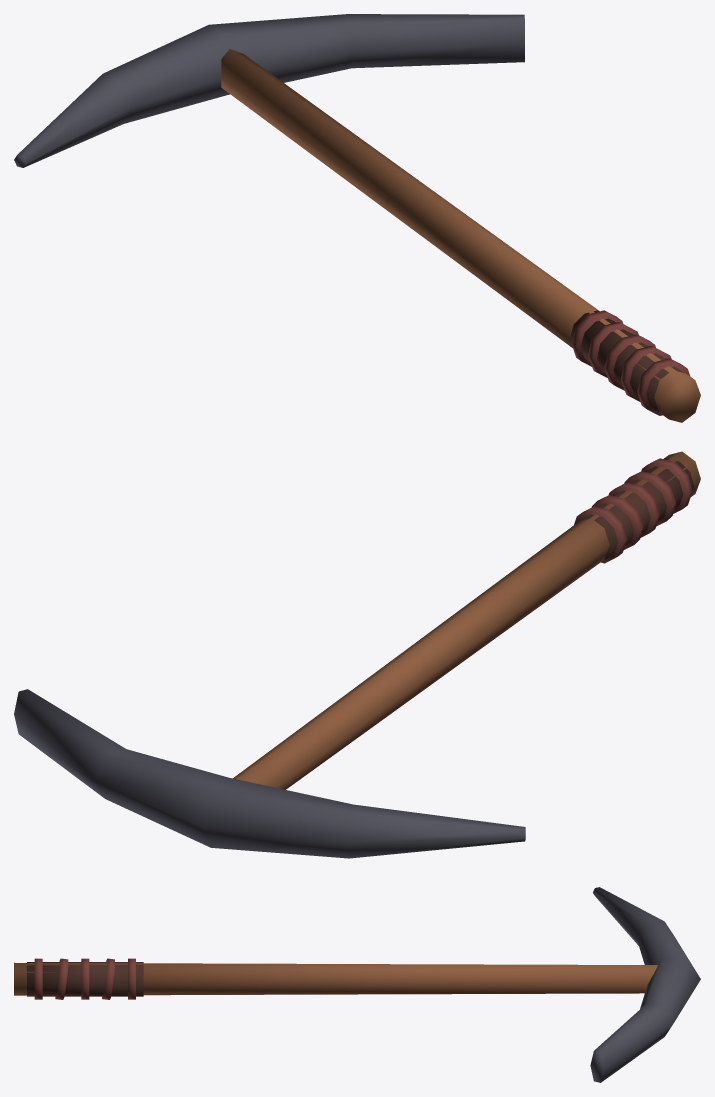
Rendered from weapon_pickaxe.glb.
The picture shows the model from 3 angles, top to bottom: view 1: azimuth 30°, elevation 25°; view 2: azimuth 150°, elevation 25°; view 3: azimuth 270°, elevation 25°; orthographic projection. The views are drawn at different scales.
Visible parts, largest first — view 1: piece; view 2: piece; view 3: piece.
Boxes of the visible parts, x1=… form: piece: x1=14, y1=14, x2=700, y2=422; piece: x1=14, y1=451, x2=700, y2=858; piece: x1=14, y1=887, x2=700, y2=1082.
Bounding box in the file's own units: 0.6494 × 0.0693 × 1.06.
